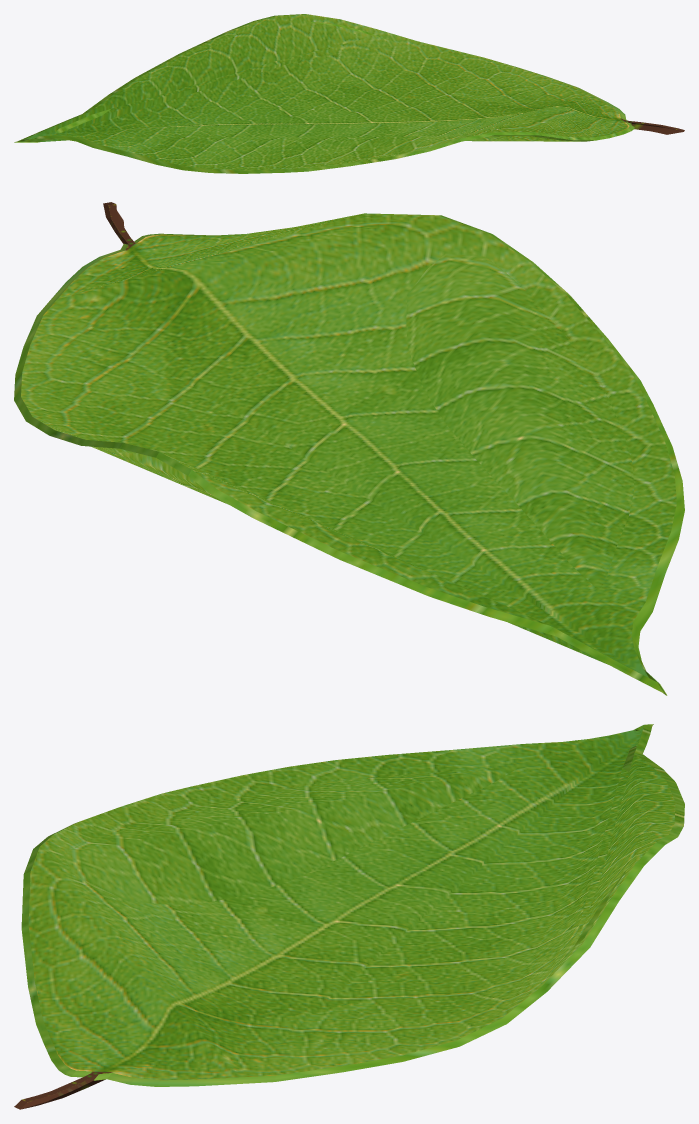
The model's file is hoja.fbx.
The picture shows the model from 3 angles, top to bottom: view 1: azimuth 30°, elevation 25°; view 2: azimuth 150°, elevation 25°; view 3: azimuth 270°, elevation 25°; orthographic projection. The views are drawn at different scales.
Visible parts, largest first — view 1: Plane; view 2: Plane; view 3: Plane.
Part boxes in pixels (left/top/right/bottom): Plane: left=14, top=14, right=684, bottom=173; Plane: left=14, top=202, right=684, bottom=695; Plane: left=14, top=724, right=684, bottom=1109.
Bounding box in the file's own units: 448 × 56.35 × 298.
